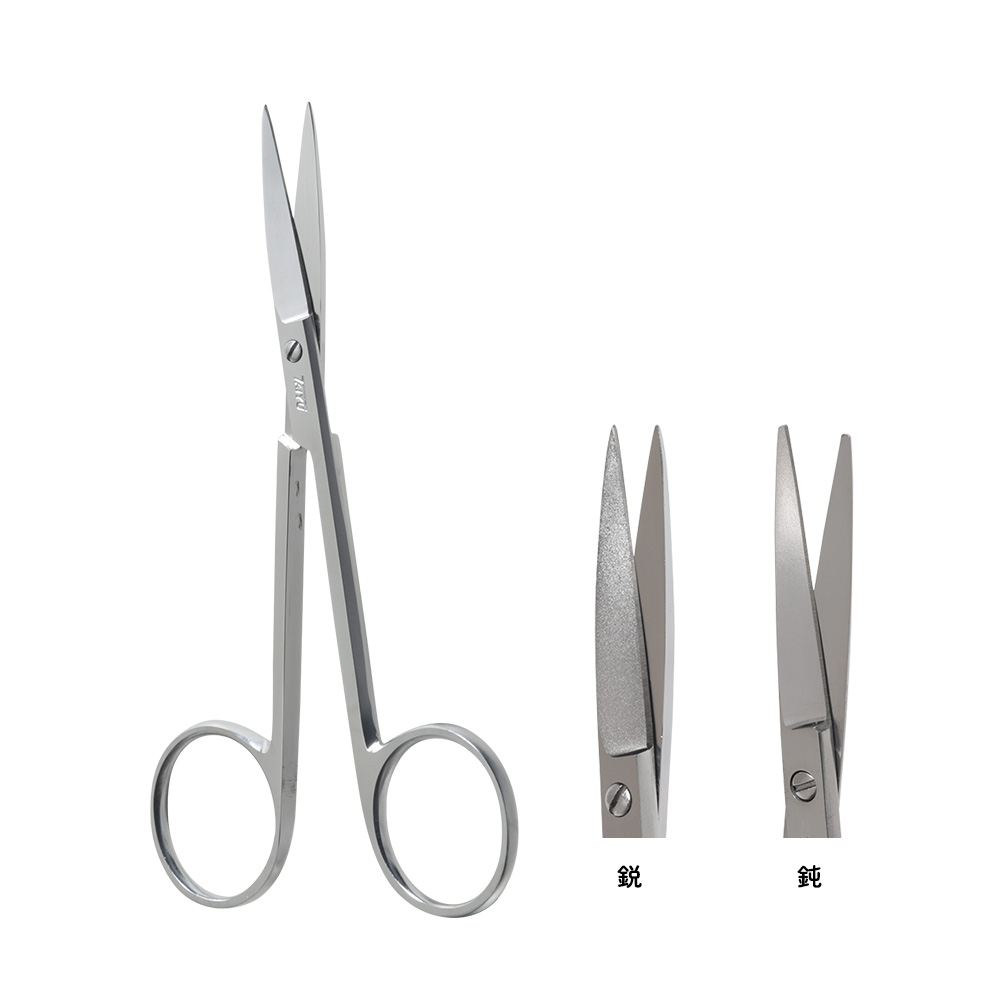scissors: (148, 98, 528, 923), (751, 421, 872, 853), (574, 420, 680, 845)
